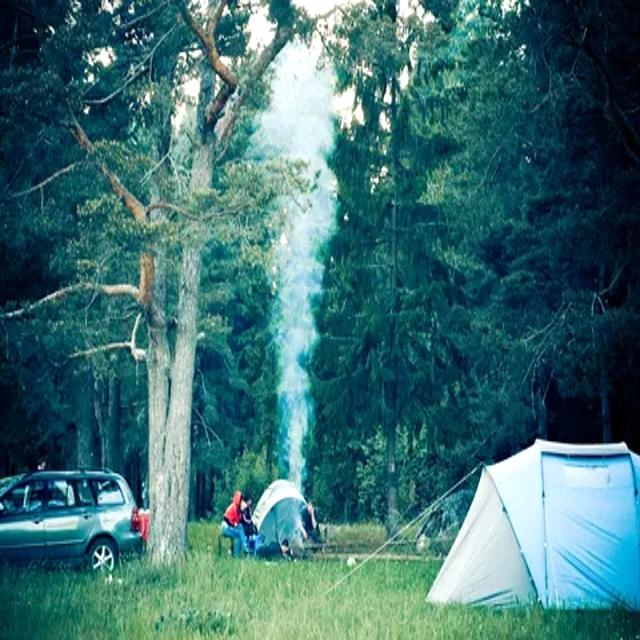no_helmet: (254, 115, 342, 493)
